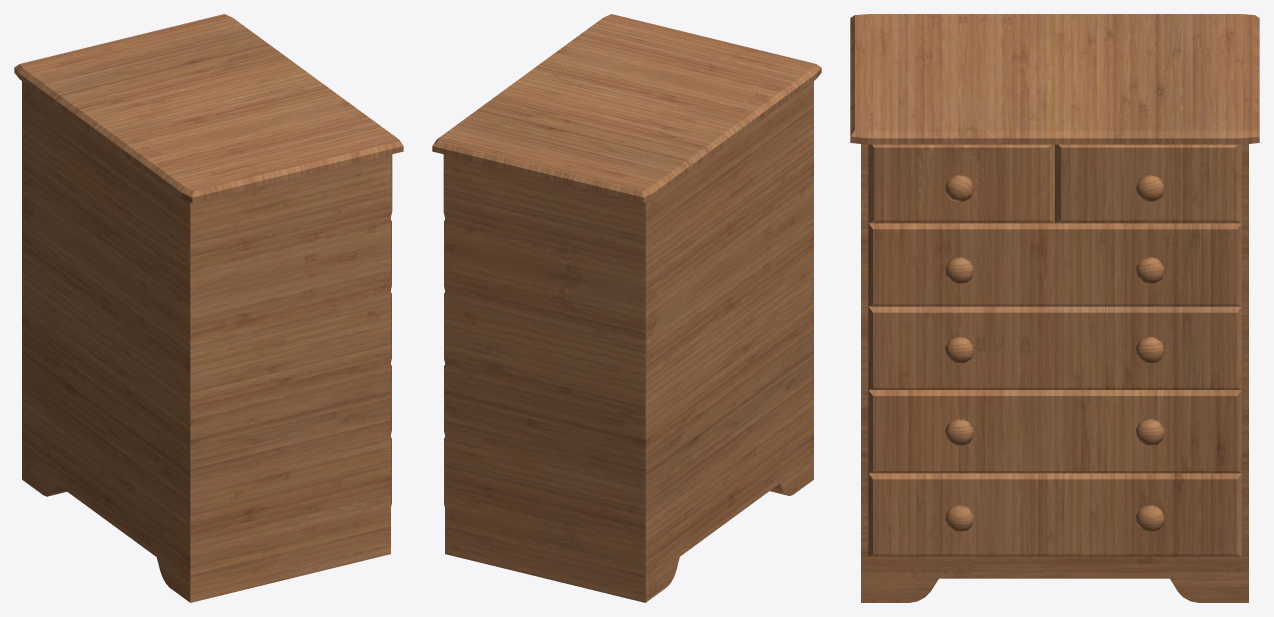
File: Drawer.glb
3 views of the same model, side by side, from view 1: azimuth 30°, elevation 25°; view 2: azimuth 150°, elevation 25°; view 3: azimuth 270°, elevation 25° (orthographic). The views are drawn at different scales.
Visible parts, largest first — view 1: drawers; view 2: drawers; view 3: drawers.
Boxes of the visible parts, x1,y1,x2,y2 form: drawers: (14,14,403,602); drawers: (432,14,821,602); drawers: (850,14,1259,602).
Bounding box in the file's own units: 0.8941 × 1.55 × 1.21.
Materials: 1 (1 with a texture image).
